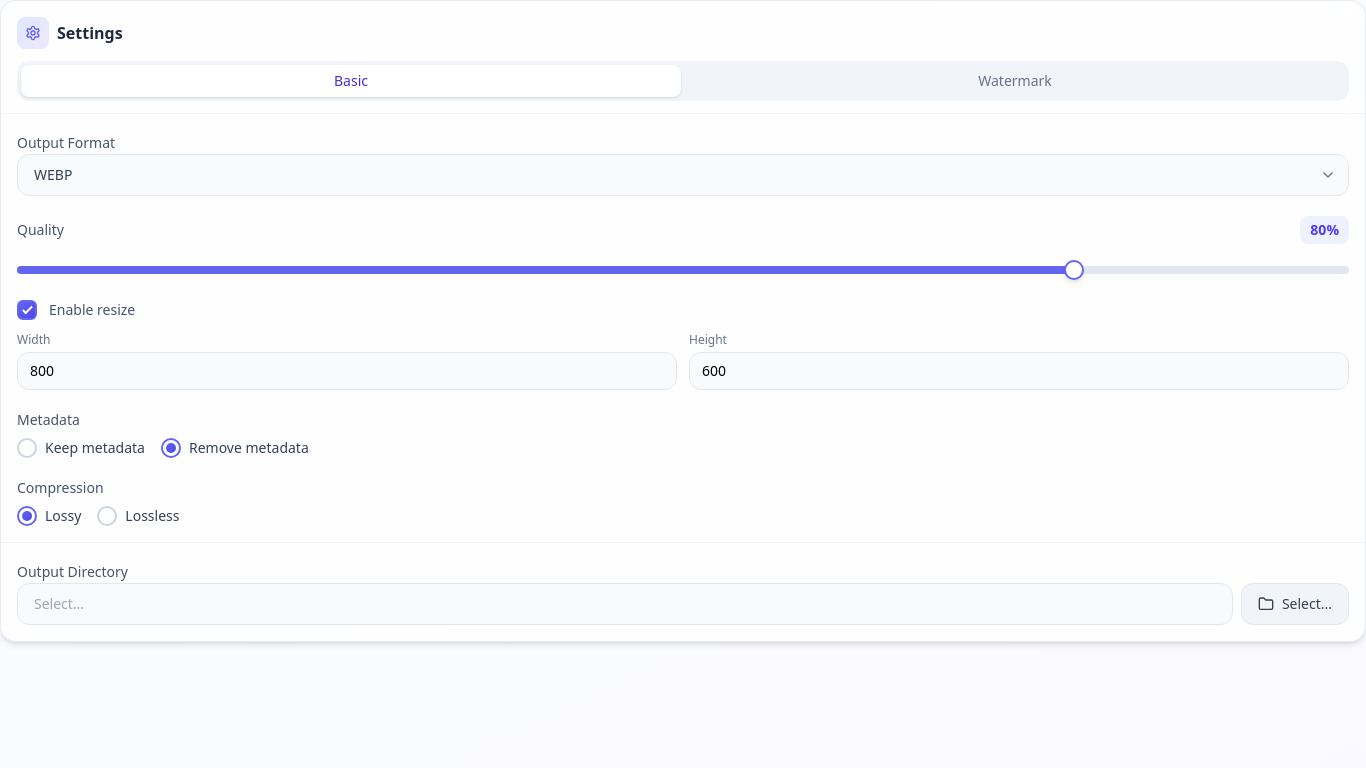
Test: SettingsPanel › リサイズ › 無効にすると width と height が null に戻る
The width and height of the screenshot is (1366, 768).
Click the checkbox labelled "Enable resize" at x=27, y=310, box [17,300,37,320]
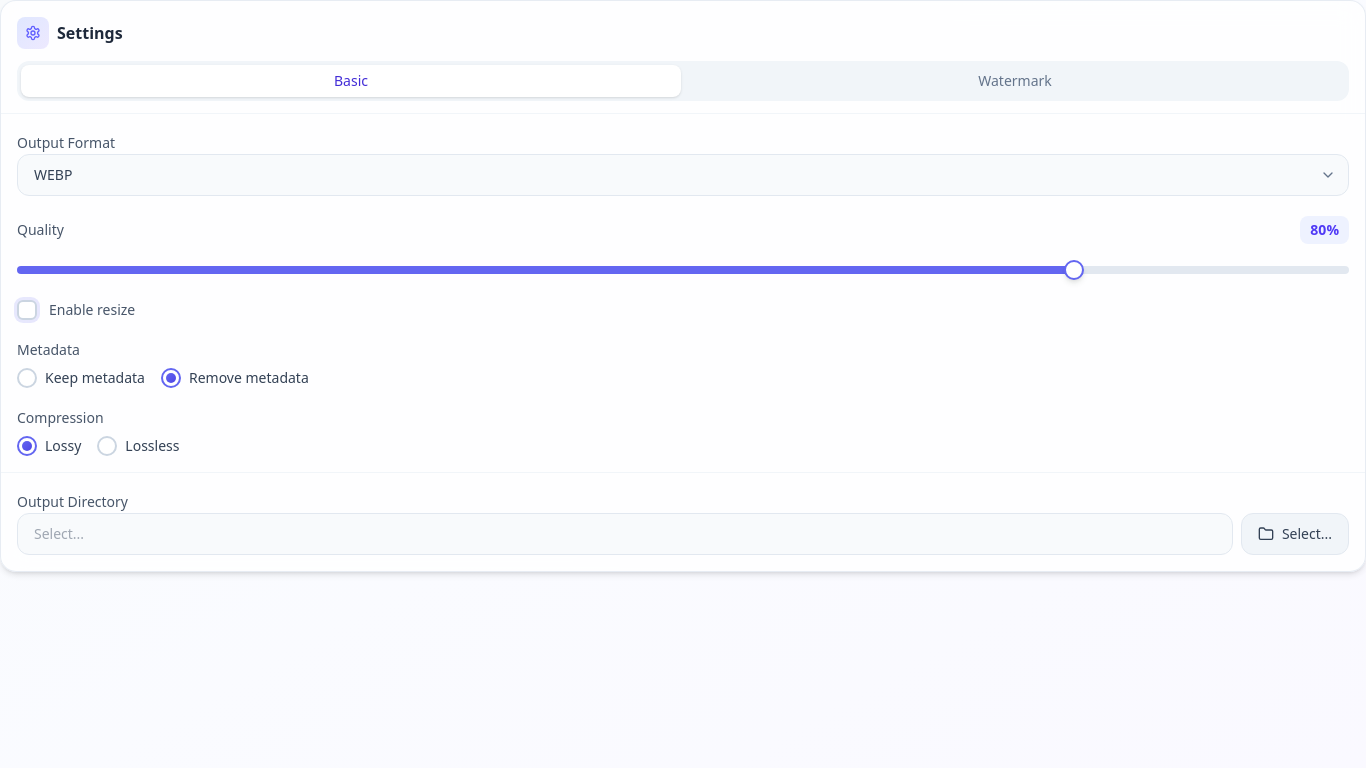
Check: the label "Width" is gone
